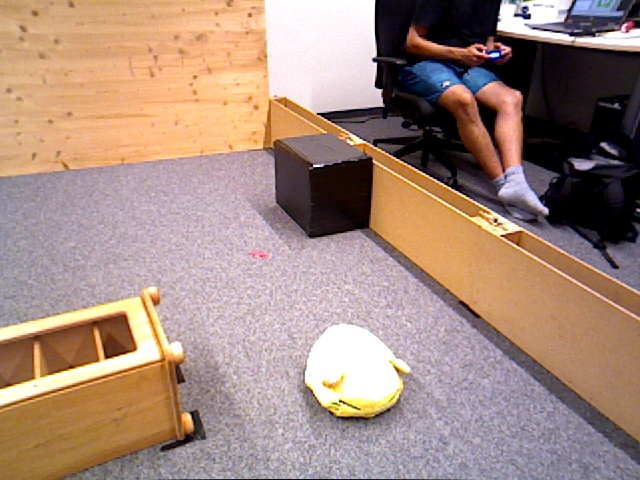grasp: (304, 322, 403, 419)
push: (275, 139, 373, 240)
